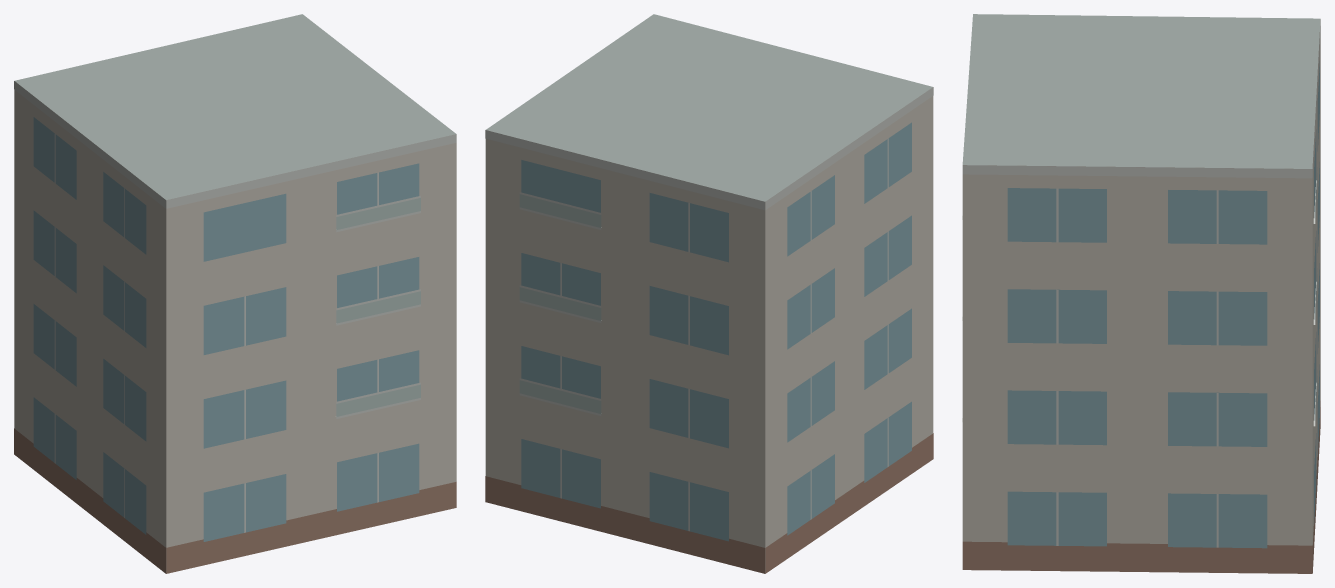
Rendered from survey-upis-32968061.glb.
3 renders of one model, left to right at view 1: azimuth 30°, elevation 25°; view 2: azimuth 150°, elevation 25°; view 3: azimuth 270°, elevation 25°, orthographic. The views are drawn at different scales.
Parts seen in each view (by area): view 1: survey-upis-32968061.tmp; view 2: survey-upis-32968061.tmp; view 3: survey-upis-32968061.tmp.
Part boxes in pixels (left/top/right/bottom): survey-upis-32968061.tmp: left=14, top=14, right=456, bottom=573; survey-upis-32968061.tmp: left=485, top=14, right=933, bottom=573; survey-upis-32968061.tmp: left=962, top=14, right=1320, bottom=573.
Bounding box in the file's own units: 8.67 × 10.55 × 8.47.
